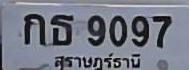0: (109, 14, 126, 46)
7: (152, 15, 171, 47)
9: (87, 14, 104, 45), (131, 15, 148, 46)
A01: (23, 12, 44, 44)
A24: (50, 13, 73, 45)
SNI: (50, 51, 144, 70)
